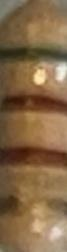Brown: (0, 147, 67, 172), (1, 97, 67, 120)
Green: (3, 47, 67, 65)
Side-Gold: (2, 195, 67, 220)
